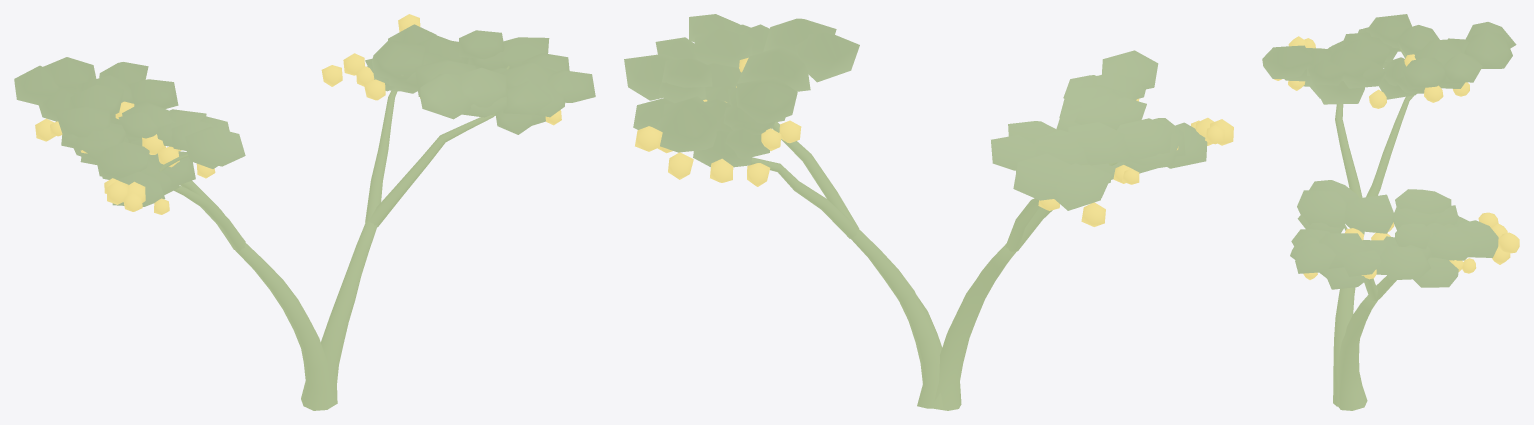
Rendered from Blender_Palo_3.glb.
3 renders of one model, left to right at view 1: azimuth 30°, elevation 25°; view 2: azimuth 150°, elevation 25°; view 3: azimuth 270°, elevation 25°, orthographic. The views are drawn at different scales.
Visible parts, largest first — view 1: Blender_Palo_3; view 2: Blender_Palo_3; view 3: Blender_Palo_3.
Boxes of the visible parts, bbox=[...] form: Blender_Palo_3: bbox=[14, 14, 595, 410]; Blender_Palo_3: bbox=[624, 14, 1233, 410]; Blender_Palo_3: bbox=[1262, 14, 1519, 410].
Bounding box in the file's own units: 9.27 × 5.93 × 4.62.
